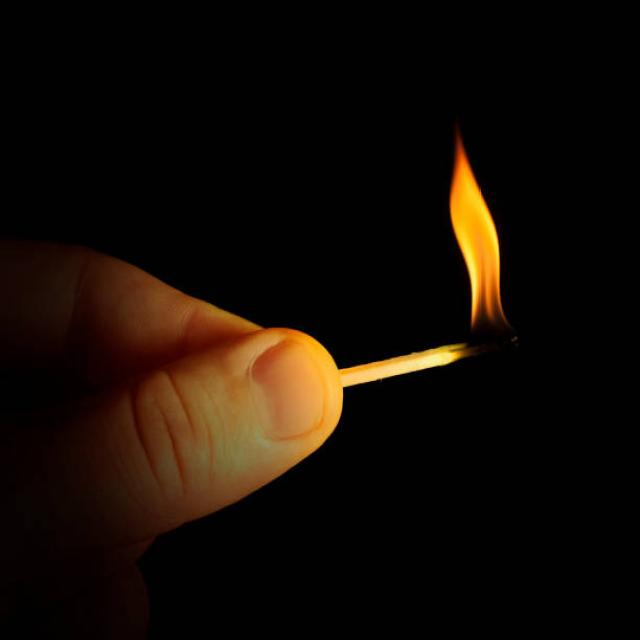fire: (451, 138, 507, 328)
